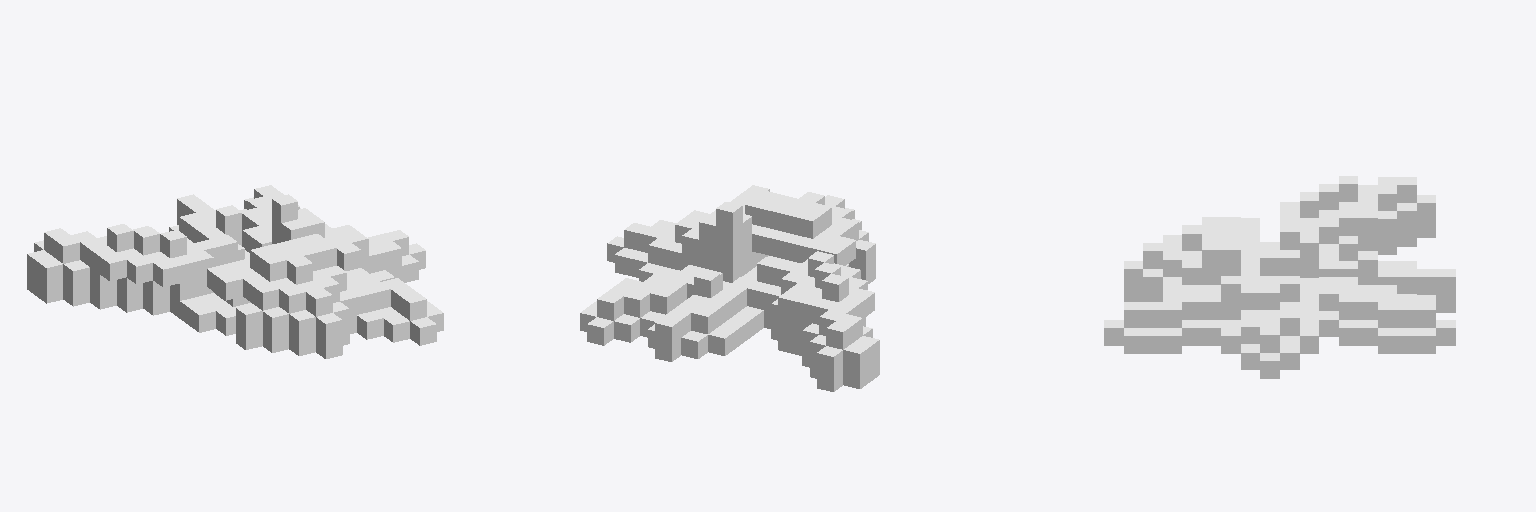
File: JungleBush2.obj
3 views of the same model, side by side, from view 1: azimuth 30°, elevation 25°; view 2: azimuth 150°, elevation 25°; view 3: azimuth 270°, elevation 25° (orthographic).
Bounding box in the file's own units: 19 × 5 × 18.